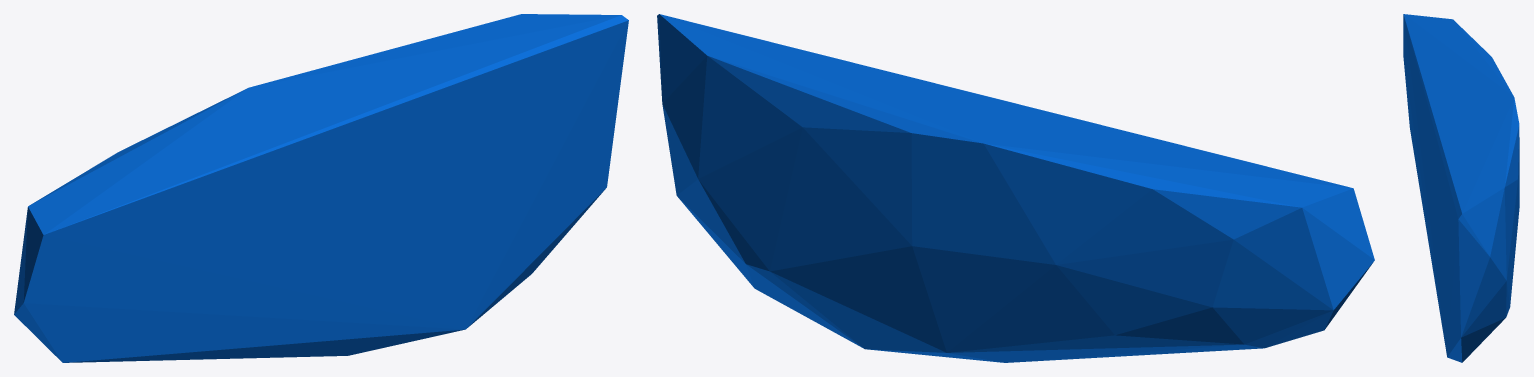
Rendered from shoulder-roll-housing-mirror_convex_piece_003.obj.
3 renders of one model, left to right at view 1: azimuth 30°, elevation 25°; view 2: azimuth 150°, elevation 25°; view 3: azimuth 270°, elevation 25°, orthographic. The views are drawn at different scales.
Bounding box in the file's own units: 0.1152 × 0.0458 × 0.0235.
